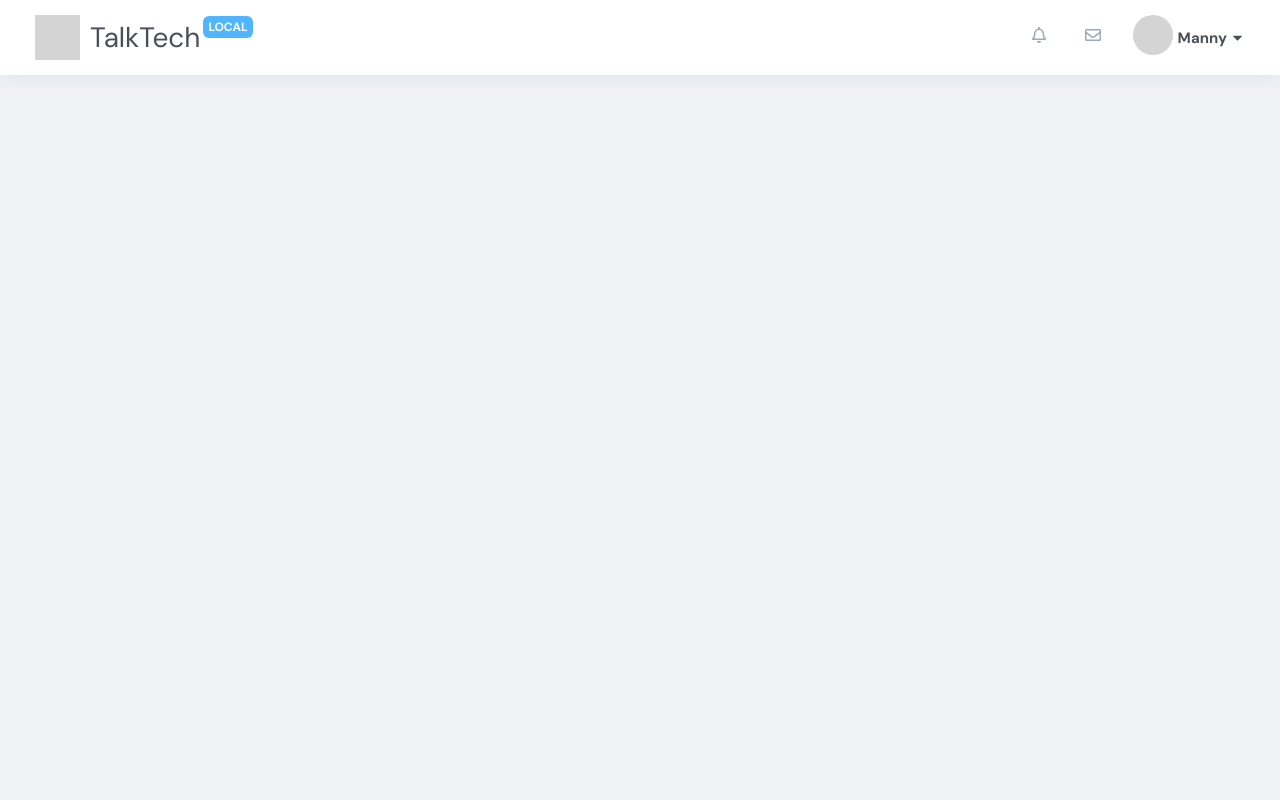
Test: Header › body › should display notification dropdown
Click the list item with test id "notification-list-item": (1041, 38) top-left (1014, 27), bottom-right (1068, 48)
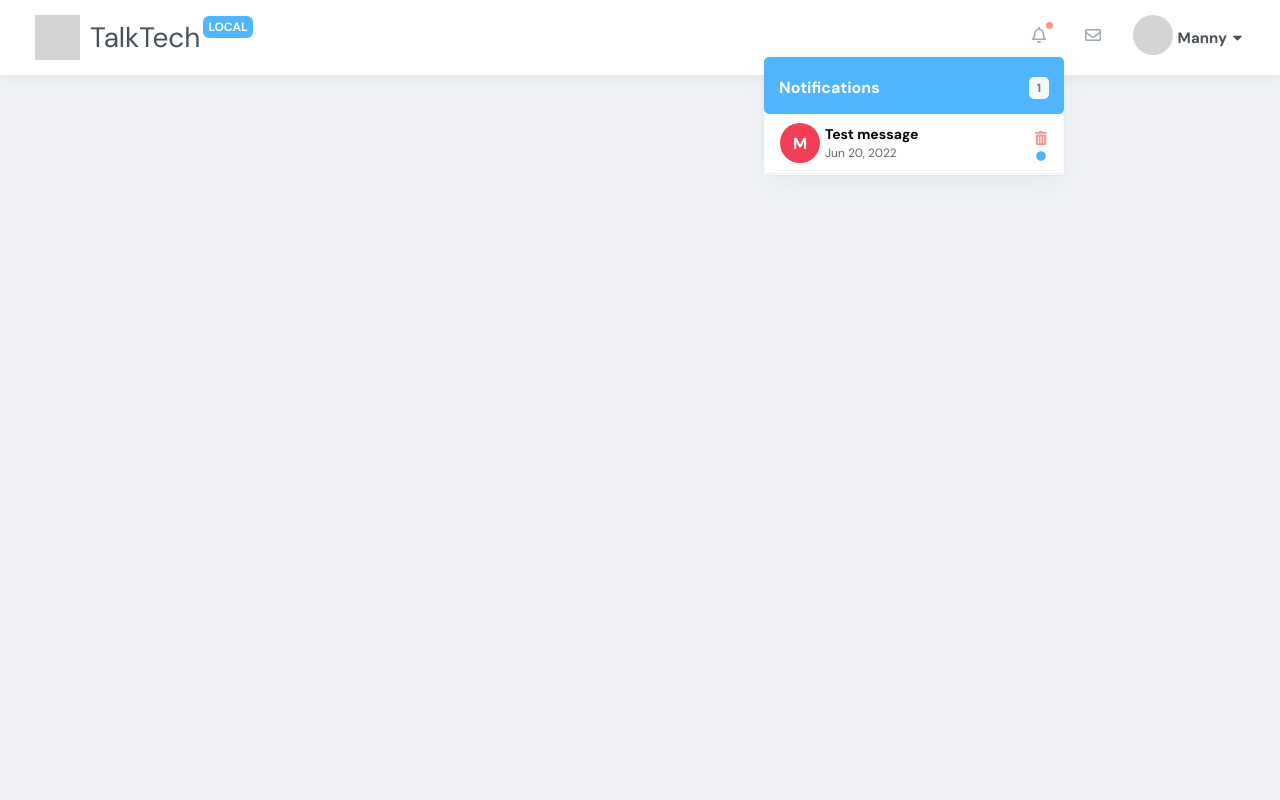
Check: the element with test id "dropdown" is shown, box top-left (764, 57), bottom-right (1064, 175)
Check: the heading "Notifications 1" is shown, box top-left (779, 72), bottom-right (1049, 103)
Check: the text with test id "notification-dots" is shown, box top-left (1046, 22), bottom-right (1053, 29)
